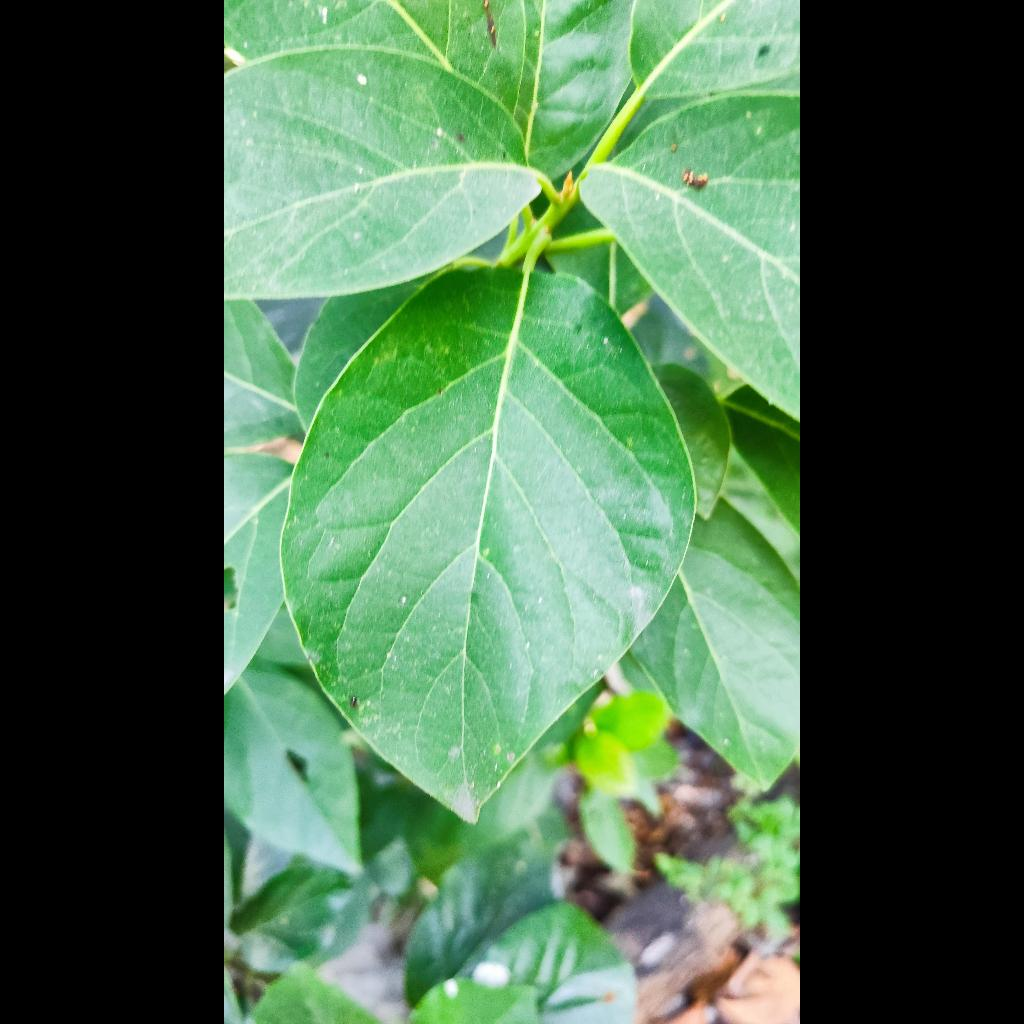hoja_sana: (282, 269, 694, 820)
